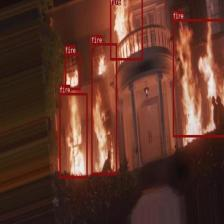fire: (172, 18, 224, 136), (91, 43, 117, 174), (59, 92, 88, 177), (109, 0, 142, 59), (65, 53, 80, 90)
